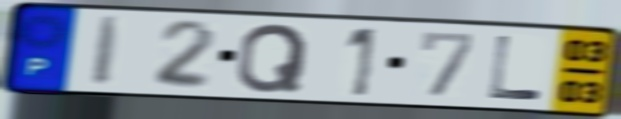1: (342, 26, 379, 98)
2: (150, 17, 218, 92)
7: (417, 29, 478, 100)
I: (88, 14, 127, 89)
L: (485, 33, 545, 102)
Q: (233, 21, 312, 95)
